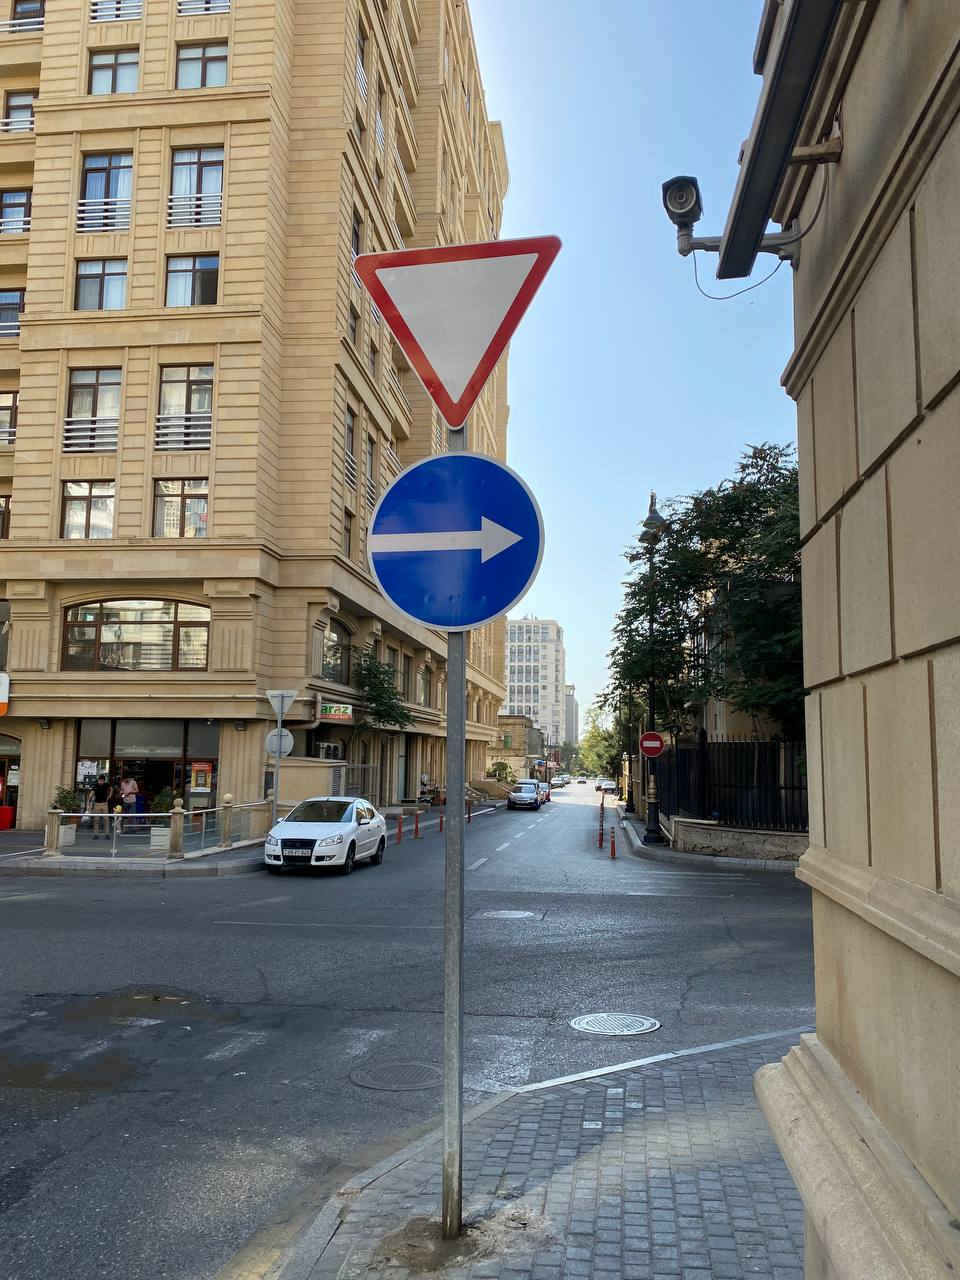Give Way: (355, 234, 563, 430)
Turn Right: (366, 450, 546, 633)
